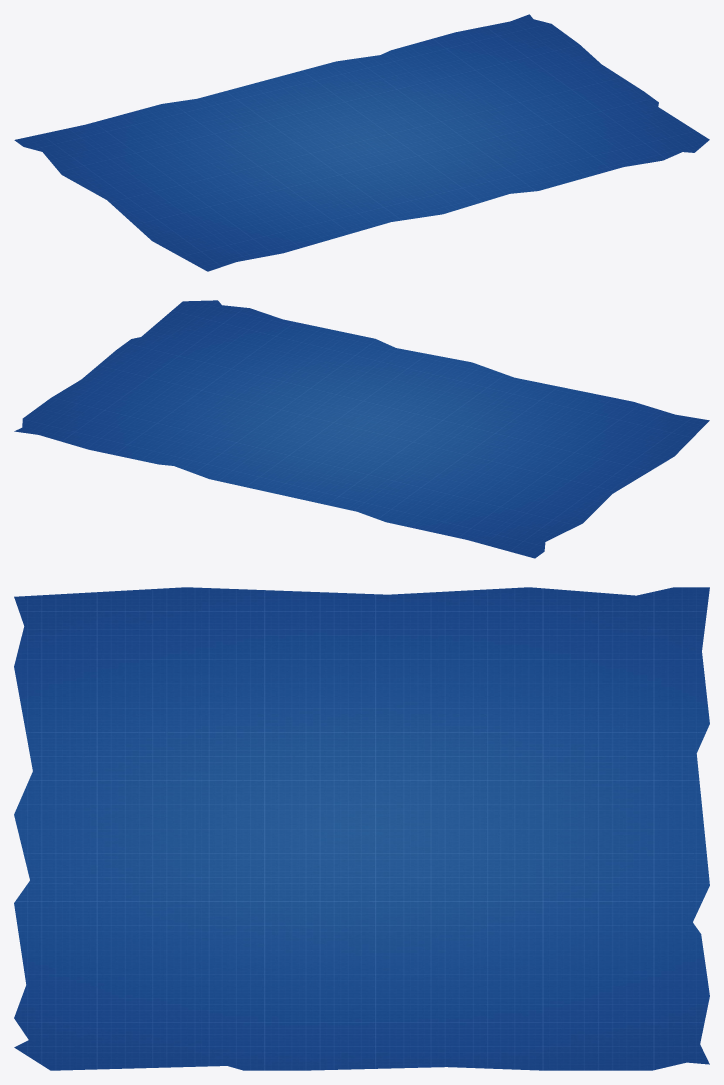
The model's file is blueprint untergrund.glb.
3 views of the same model, one above another, from view 1: azimuth 30°, elevation 25°; view 2: azimuth 150°, elevation 25°; view 3: azimuth 270°, elevation 25° (orthographic). The views are drawn at different scales.
Parts seen in each view (by area): view 1: Bluerint; view 2: Bluerint; view 3: Bluerint.
Part boxes in pixels (bbox=[...]): Bluerint: bbox=[14, 14, 709, 271]; Bluerint: bbox=[14, 300, 709, 558]; Bluerint: bbox=[14, 587, 709, 1070].
Bounding box in the file's own units: 20.17 × 0 × 12.27.
1 material, 1 textured.
